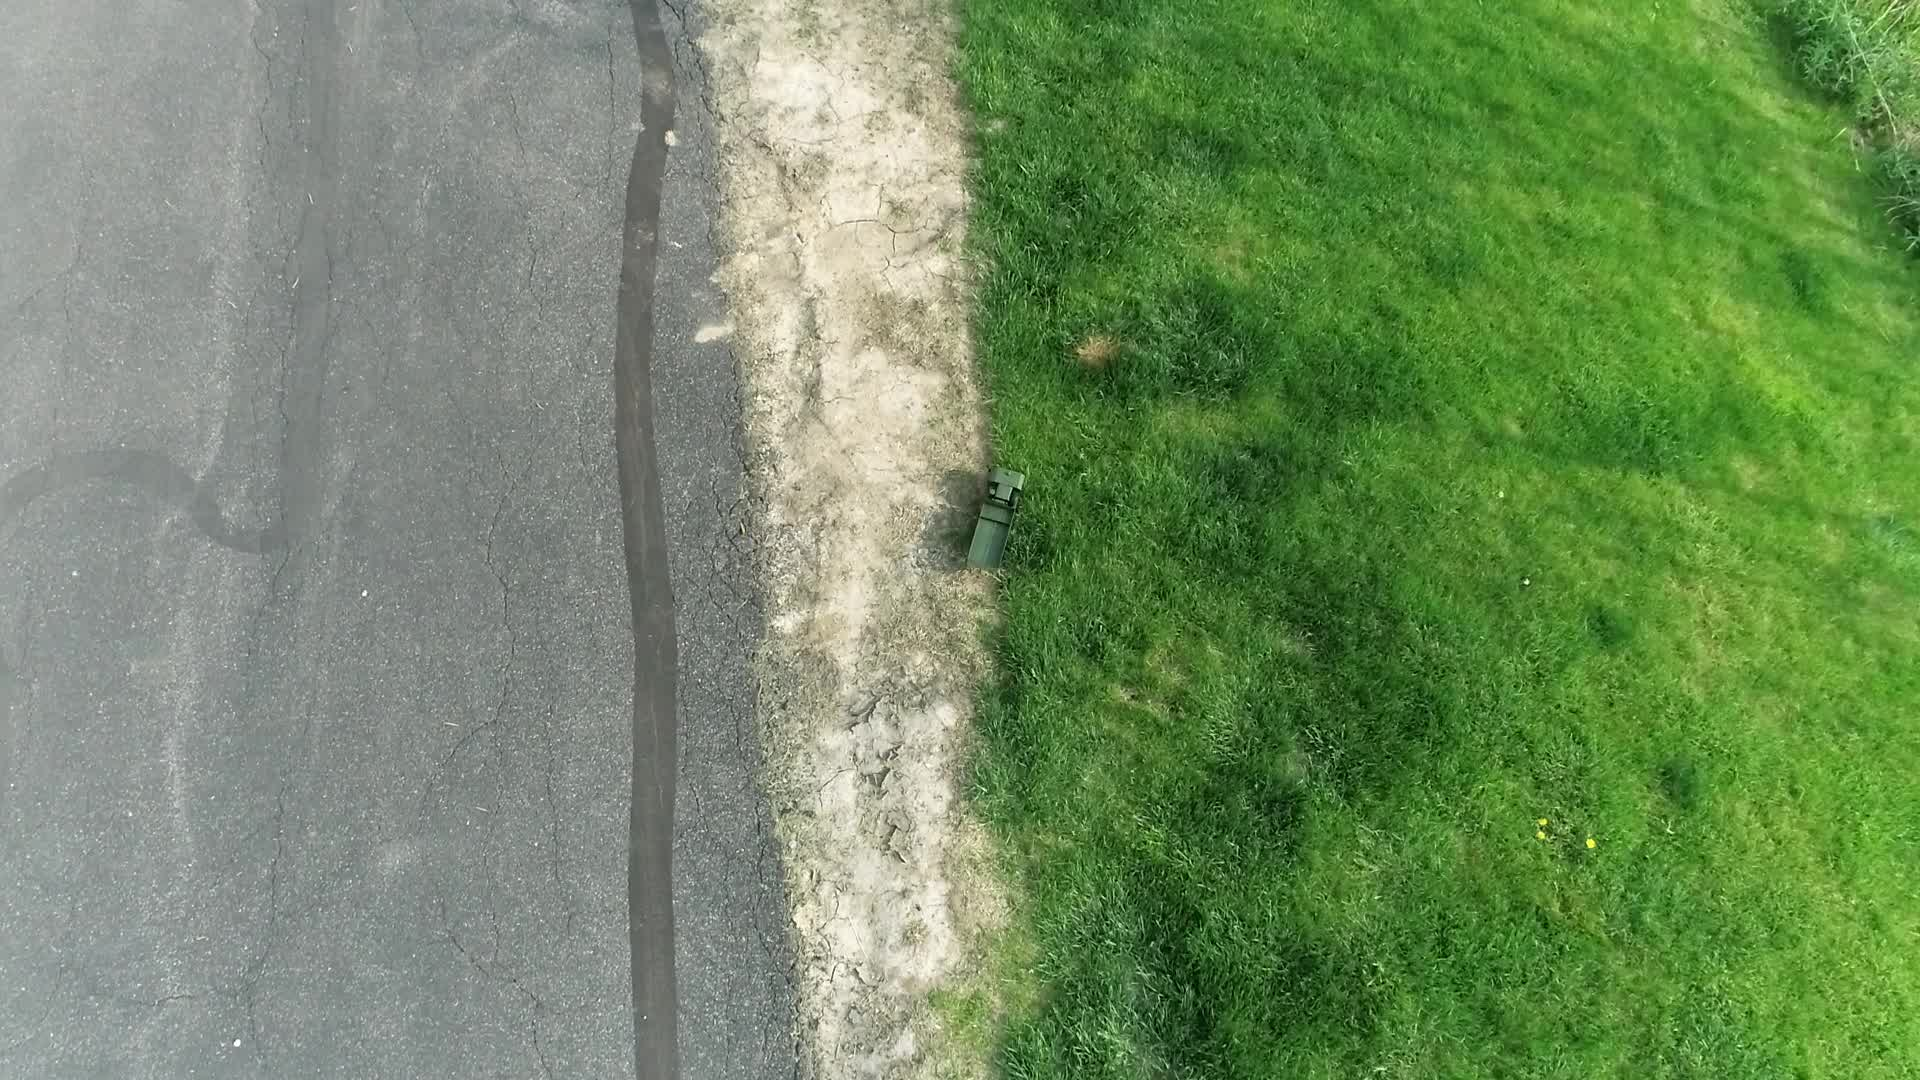transporter9: (957, 462, 1029, 578)
